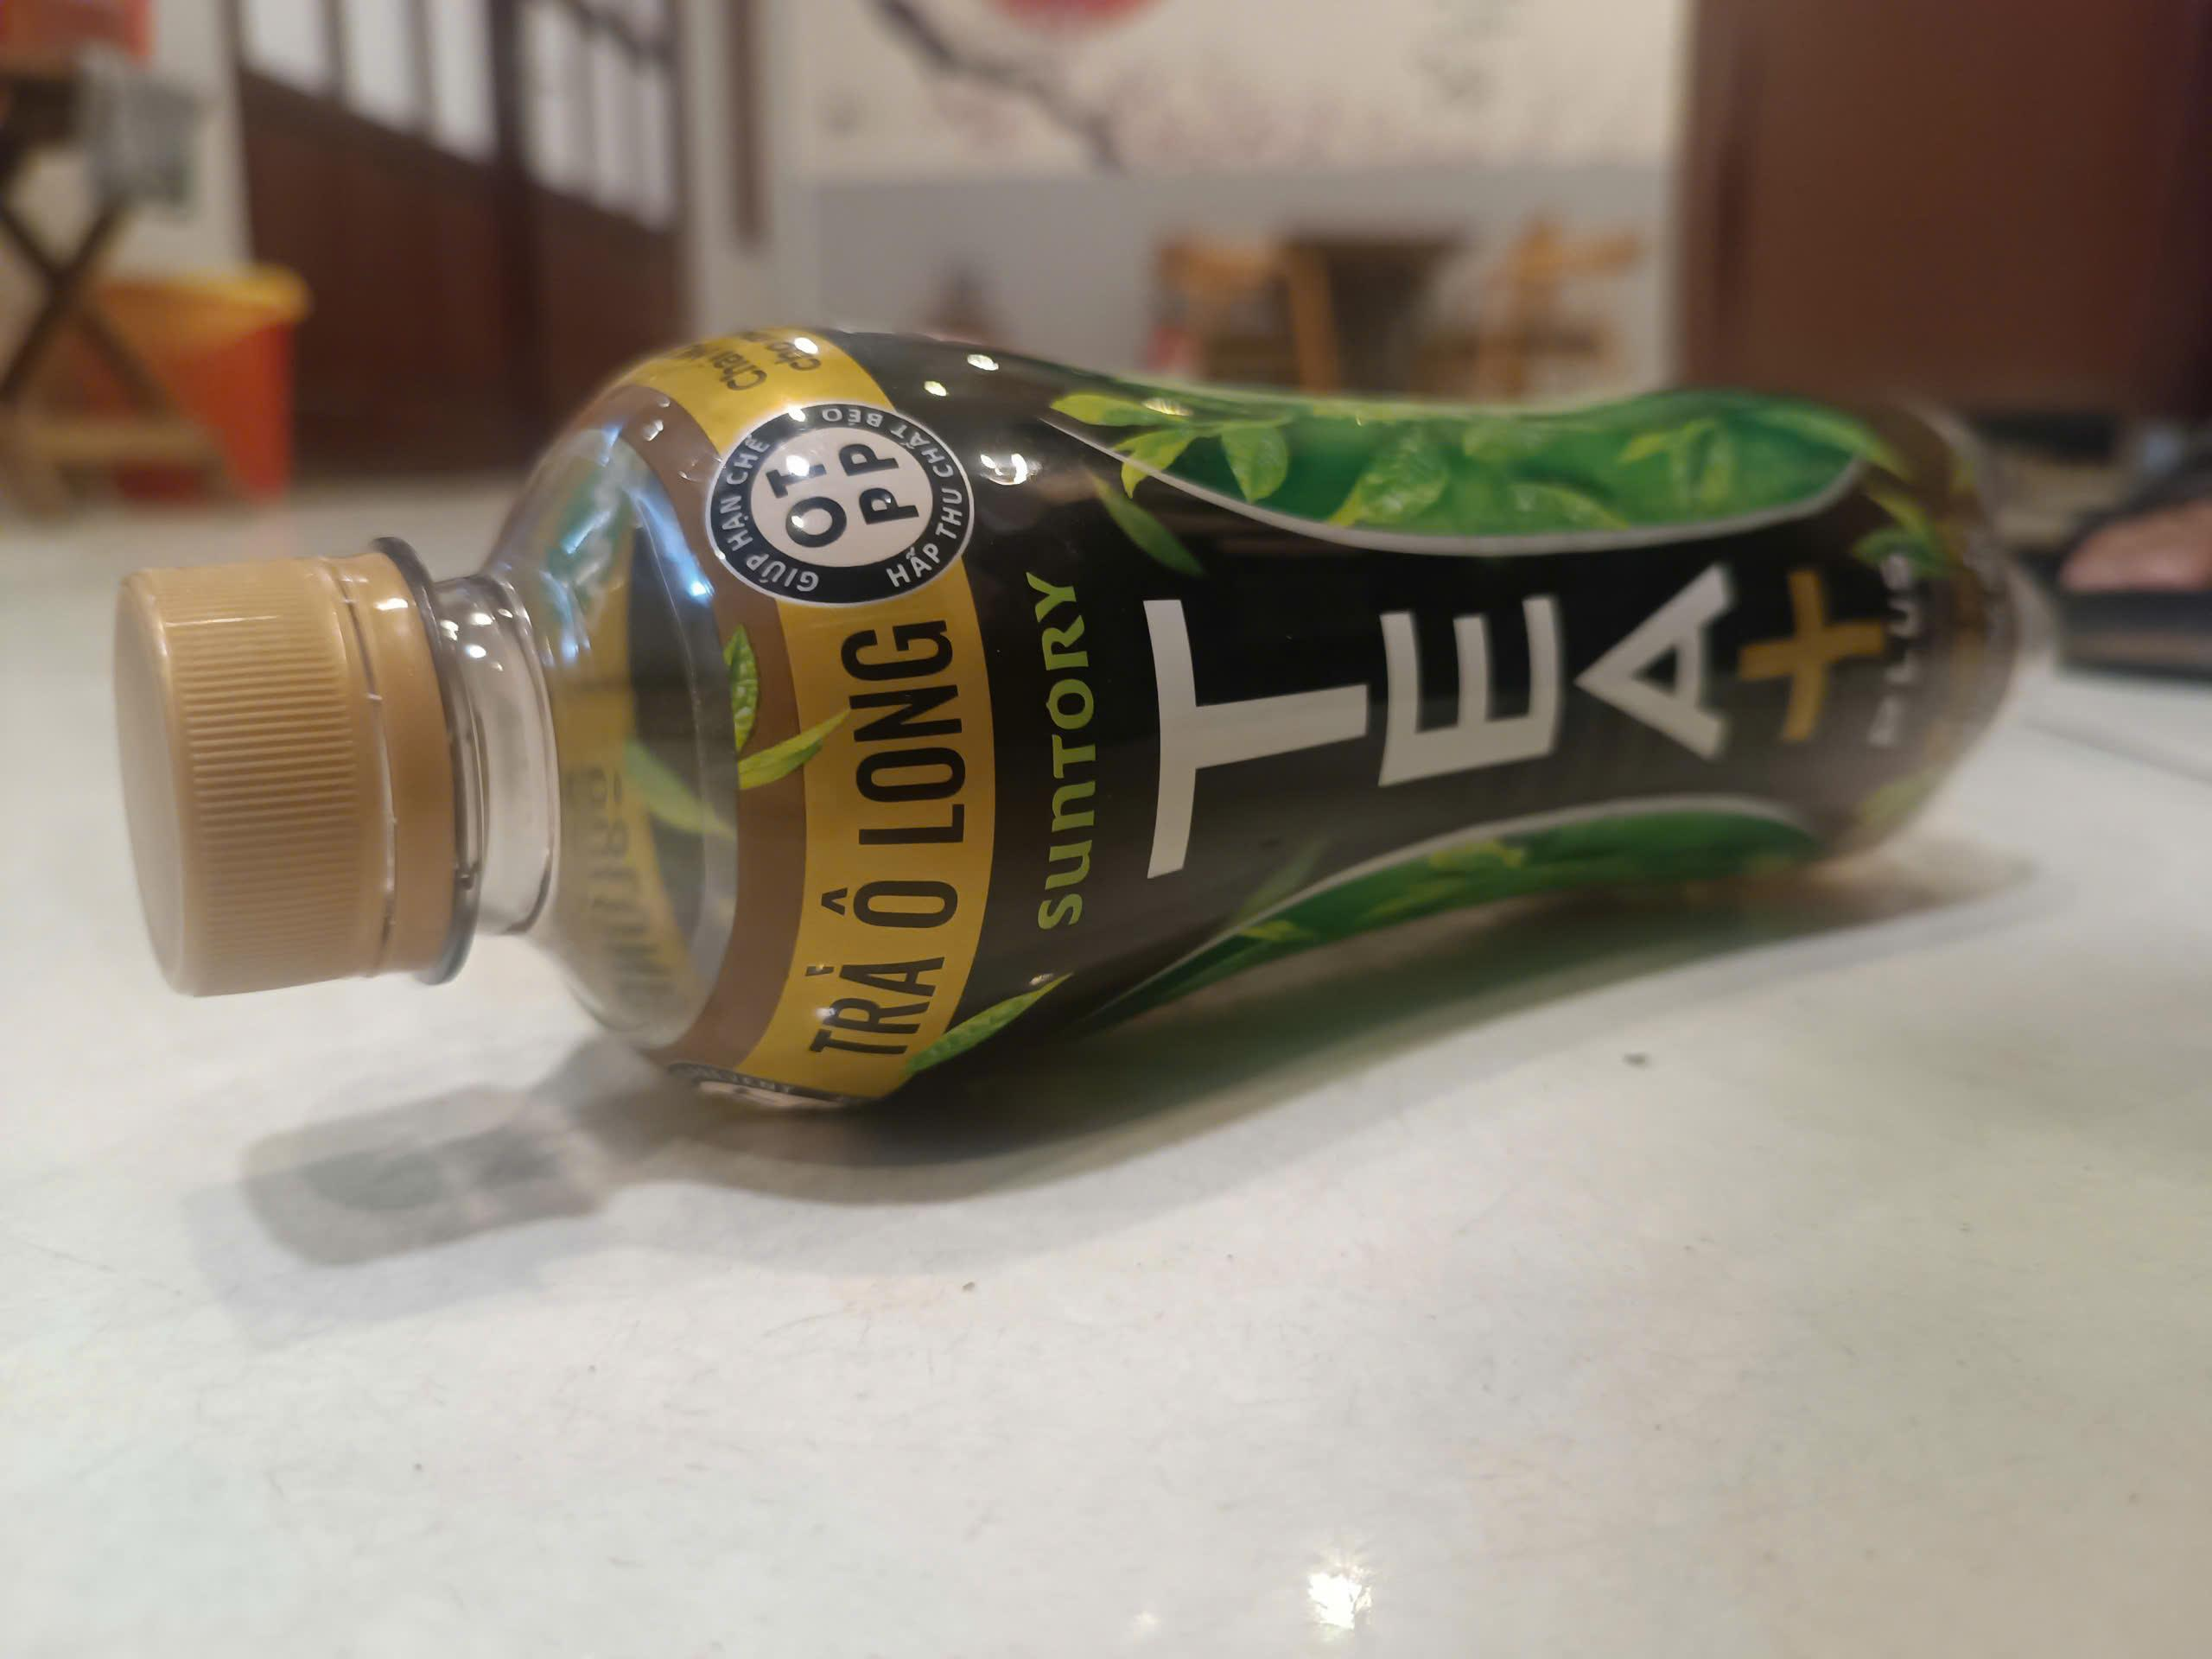Vo co: (110, 322, 2017, 1093)
